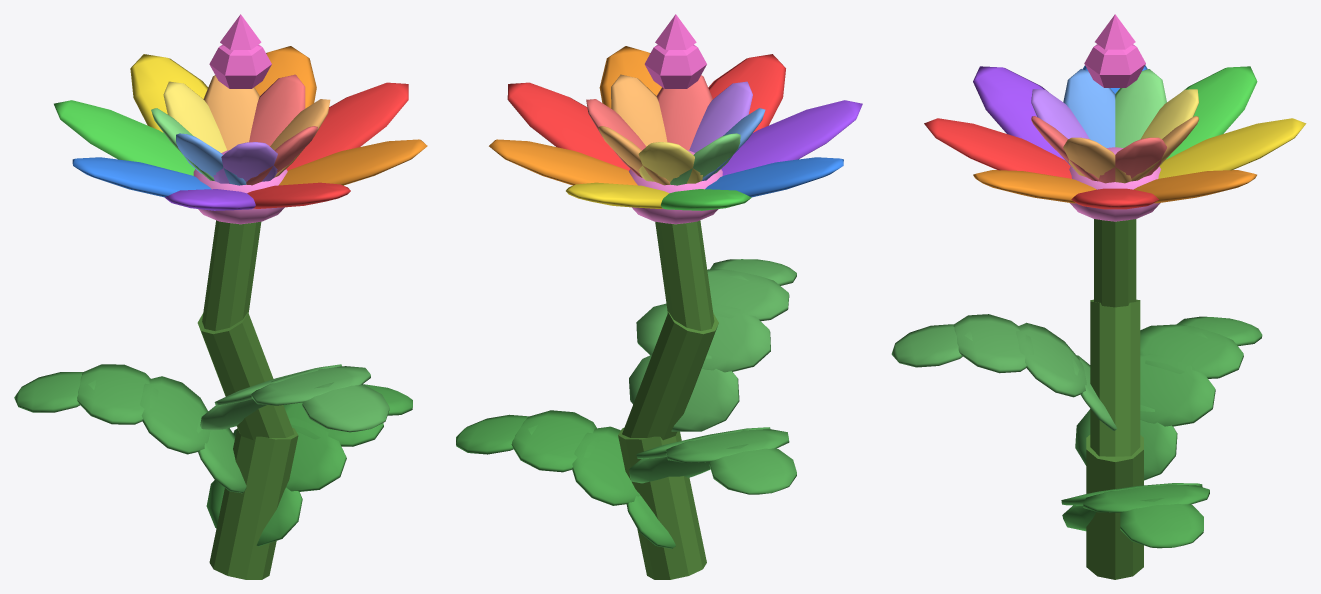
Rendered from Planta_RainbowSeed.fbx.
The picture shows the model from 3 angles, left to right: view 1: azimuth 30°, elevation 25°; view 2: azimuth 150°, elevation 25°; view 3: azimuth 270°, elevation 25°; orthographic projection.
Parts seen in each view (by area): view 1: Corpo_RainbowSeed, Brilho_RainbowSeed; view 2: Corpo_RainbowSeed, Brilho_RainbowSeed; view 3: Corpo_RainbowSeed, Brilho_RainbowSeed.
Boxes of the visible parts, x1,y1,x2,y2 form: Corpo_RainbowSeed: (14, 46, 427, 579); Brilho_RainbowSeed: (209, 14, 271, 88); Corpo_RainbowSeed: (456, 46, 862, 579); Brilho_RainbowSeed: (644, 14, 706, 88); Corpo_RainbowSeed: (891, 65, 1306, 579); Brilho_RainbowSeed: (1084, 14, 1145, 87).
Size of the model in its own units: 2.02 by 3.02 by 2.05.
1 material, 1 textured.
